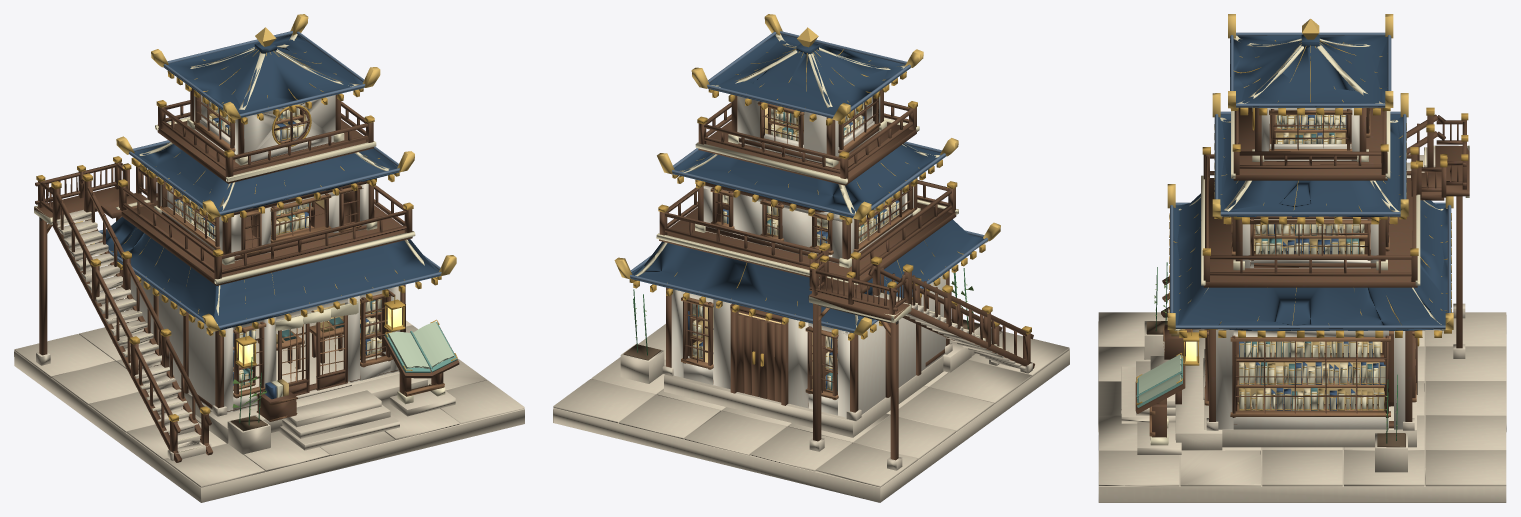
The model's file is library-lod2-2e0d911067cd.glb.
3 views of the same model, side by side, from view 1: azimuth 30°, elevation 25°; view 2: azimuth 150°, elevation 25°; view 3: azimuth 270°, elevation 25° (orthographic). The views are drawn at different scales.
Parts seen in each view (by area): view 1: RFbatch_90.022, RFbatch_148.003, RFbatch_49.034, RFbatch_7.034, RFbatch_4.034, RFbatch_152.003, RFbatch_149.003, RFbatch_33.034, RFbatch_50.034, RFbatch_151.003, RFbatch_161.003, RFbatch_155.003 (+2 smaller); view 2: RFbatch_90.022, RFbatch_148.003, RFbatch_49.034, RFbatch_7.034, RFbatch_152.003, RFbatch_4.034, RFbatch_33.034, RFbatch_149.003, RFbatch_50.034, RFbatch_151.003; view 3: RFbatch_90.022, RFbatch_49.034, RFbatch_148.003, RFbatch_151.003, RFbatch_7.034, RFbatch_149.003, RFbatch_152.003, RFbatch_33.034, RFbatch_4.034, RFbatch_147.003, RFbatch_50.034, RFbatch_150.003 (+5 smaller).
Boxes of the visible parts, bbox=[...] form: RFbatch_90.022: bbox=[14, 209, 524, 502]; RFbatch_148.003: bbox=[34, 88, 459, 462]; RFbatch_49.034: bbox=[101, 34, 440, 331]; RFbatch_7.034: bbox=[129, 95, 400, 412]; RFbatch_4.034: bbox=[34, 34, 445, 452]; RFbatch_152.003: bbox=[36, 49, 457, 422]; RFbatch_149.003: bbox=[47, 108, 444, 421]; RFbatch_33.034: bbox=[95, 31, 441, 328]; RFbatch_50.034: bbox=[75, 14, 456, 331]; RFbatch_151.003: bbox=[174, 101, 381, 397]; RFbatch_161.003: bbox=[387, 321, 454, 368]; RFbatch_155.003: bbox=[191, 107, 360, 396]; RFbatch_90.022: bbox=[553, 292, 1069, 502]; RFbatch_148.003: bbox=[659, 89, 1034, 460]; RFbatch_49.034: bbox=[630, 34, 983, 332]; RFbatch_7.034: bbox=[671, 96, 945, 417]; RFbatch_152.003: bbox=[629, 49, 1031, 389]; RFbatch_4.034: bbox=[635, 34, 1013, 353]; RFbatch_33.034: bbox=[630, 31, 988, 332]; RFbatch_149.003: bbox=[681, 101, 914, 399]; RFbatch_50.034: bbox=[614, 14, 1000, 335]; RFbatch_151.003: bbox=[692, 102, 899, 389]; RFbatch_90.022: bbox=[1098, 147, 1506, 502]; RFbatch_49.034: bbox=[1173, 34, 1447, 330]; RFbatch_148.003: bbox=[1135, 107, 1469, 437]; RFbatch_151.003: bbox=[1239, 115, 1385, 410]; RFbatch_7.034: bbox=[1216, 108, 1405, 429]; RFbatch_149.003: bbox=[1149, 110, 1416, 436]; RFbatch_152.003: bbox=[1136, 40, 1468, 409]; RFbatch_33.034: bbox=[1170, 32, 1451, 328]; RFbatch_4.034: bbox=[1150, 35, 1469, 445]; RFbatch_147.003: bbox=[1237, 115, 1382, 403]; RFbatch_50.034: bbox=[1167, 14, 1453, 329]; RFbatch_150.003: bbox=[1239, 115, 1385, 410].
Size of the model in its own units: 9.99 by 10.76 by 9.99.
Materials: 23 (6 with a texture image).
